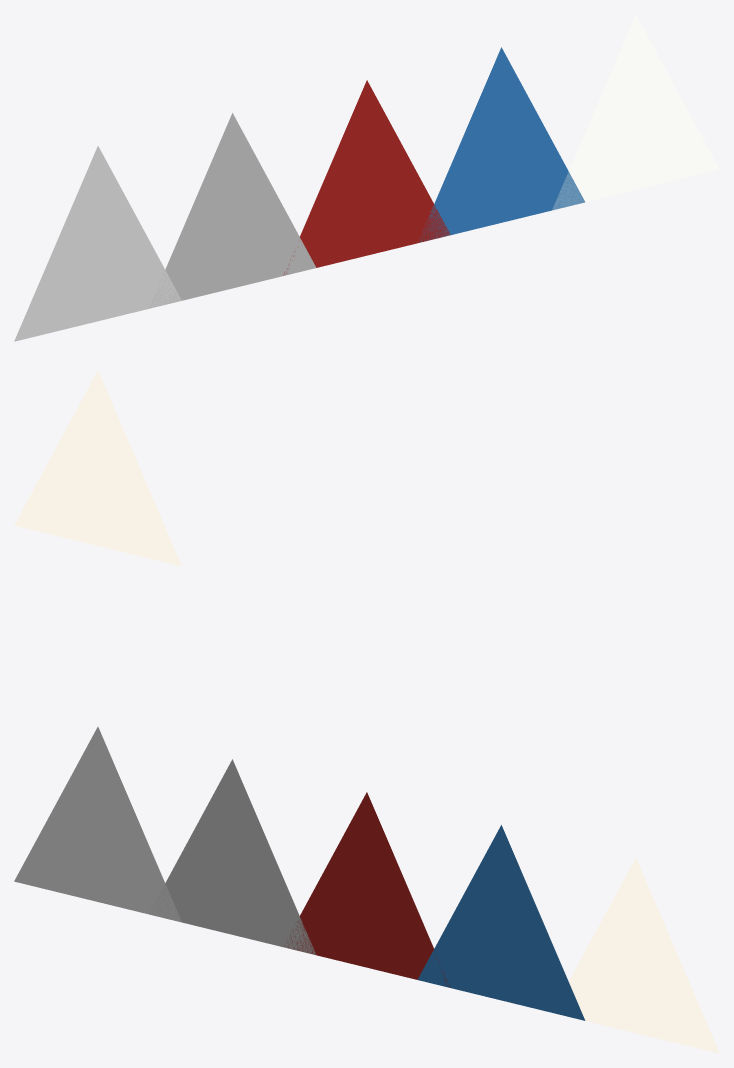
File: material_lab.gltf
The picture shows the model from 3 angles, top to bottom: view 1: azimuth 30°, elevation 25°; view 2: azimuth 150°, elevation 25°; view 3: azimuth 330°, elevation 25°; orthographic projection.
Parts seen in each view (by area): view 1: default, rough, emissive_transmissive, dielectric, red_metal; view 2: emissive_transmissive; view 3: rough, default, dielectric, emissive_transmissive, red_metal.
Part boxes in pixels (box(x1,y1,x2,y2)): default: box(14, 146, 181, 341); rough: box(420, 47, 584, 242); emissive_transmissive: box(553, 15, 718, 209); dielectric: box(150, 113, 316, 307); red_metal: box(283, 80, 450, 275); emissive_transmissive: box(15, 371, 180, 565); rough: box(417, 825, 585, 1020); default: box(14, 726, 181, 922); dielectric: box(149, 759, 316, 954); emissive_transmissive: box(569, 859, 718, 1052); red_metal: box(284, 792, 450, 987).
Bounding box in the file's own units: 6.3 × 1.5 × 0.
